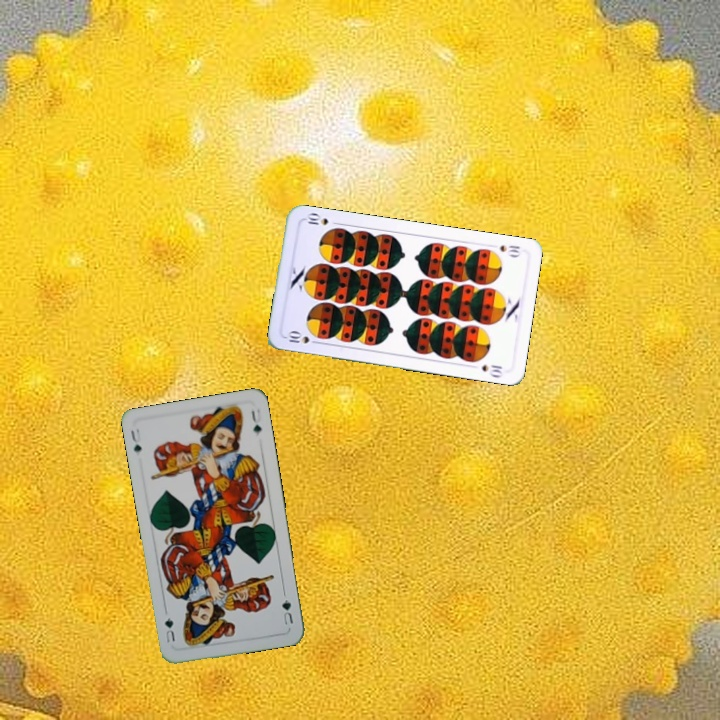GU: (278, 595, 296, 627), (127, 425, 144, 455)
S10: (282, 328, 322, 347), (496, 241, 523, 260)
